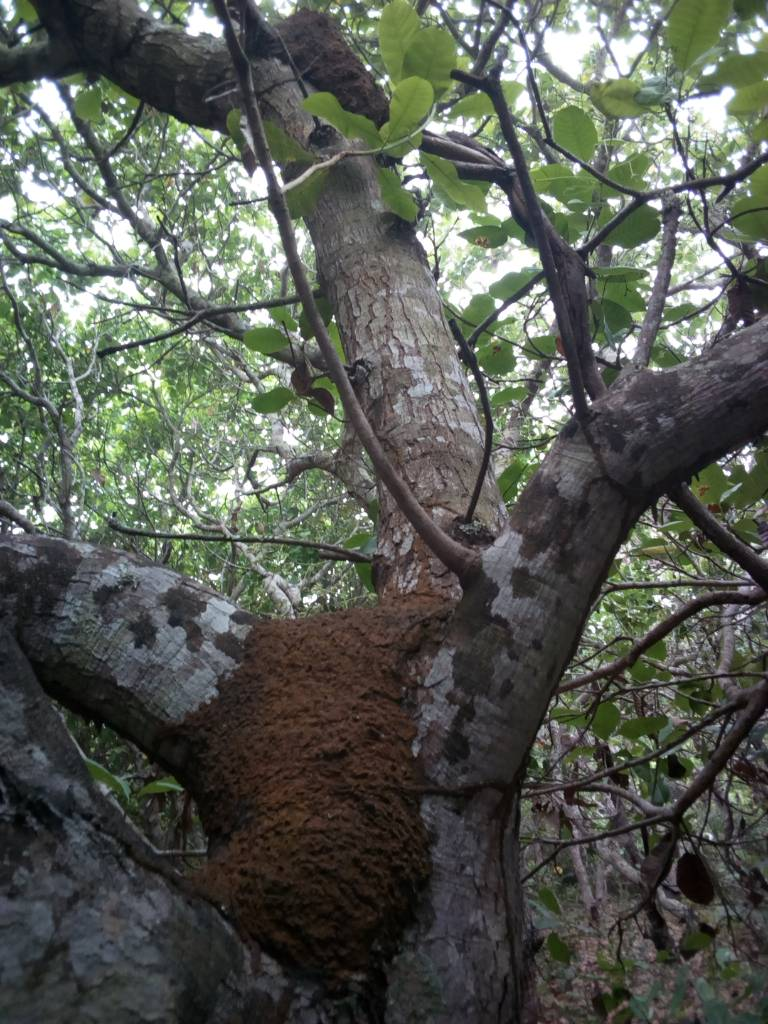Termites: (221, 627, 425, 953)
